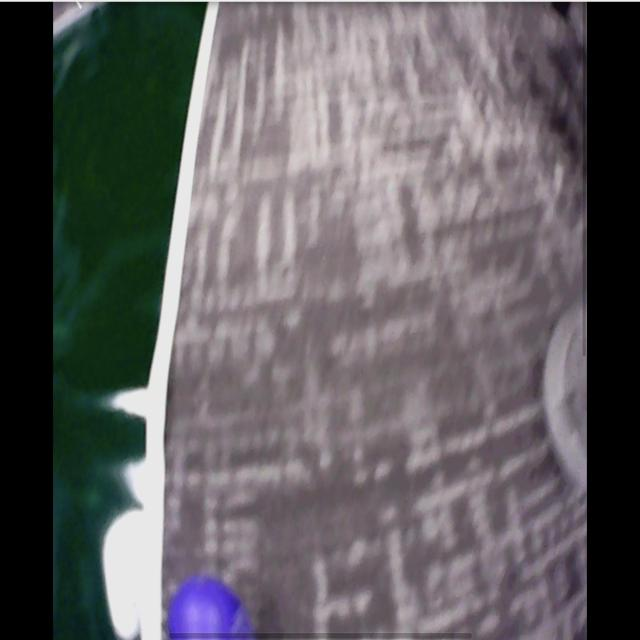ball: (168, 579, 255, 640)
